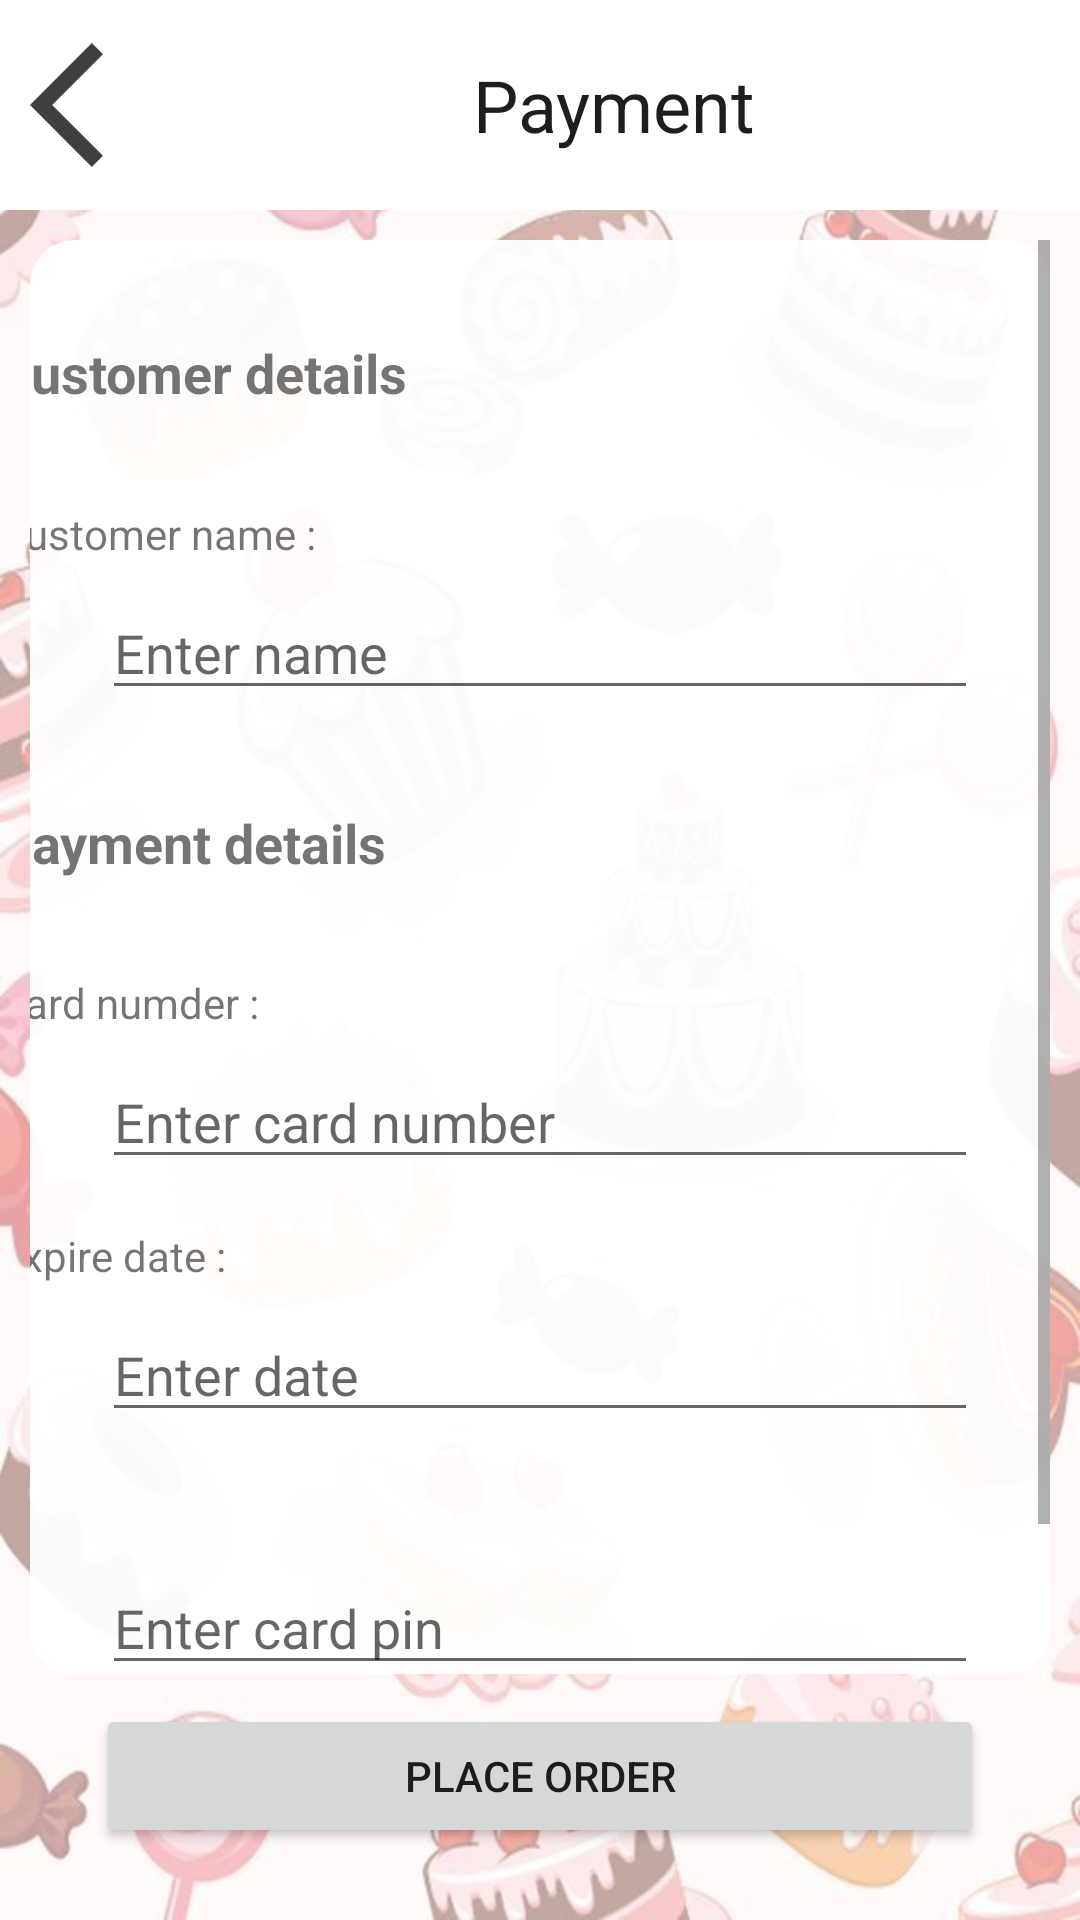

Named icons in this screenshot (1080 x 1920) and their centers, [x,y]:
arrow back: [66,105]
